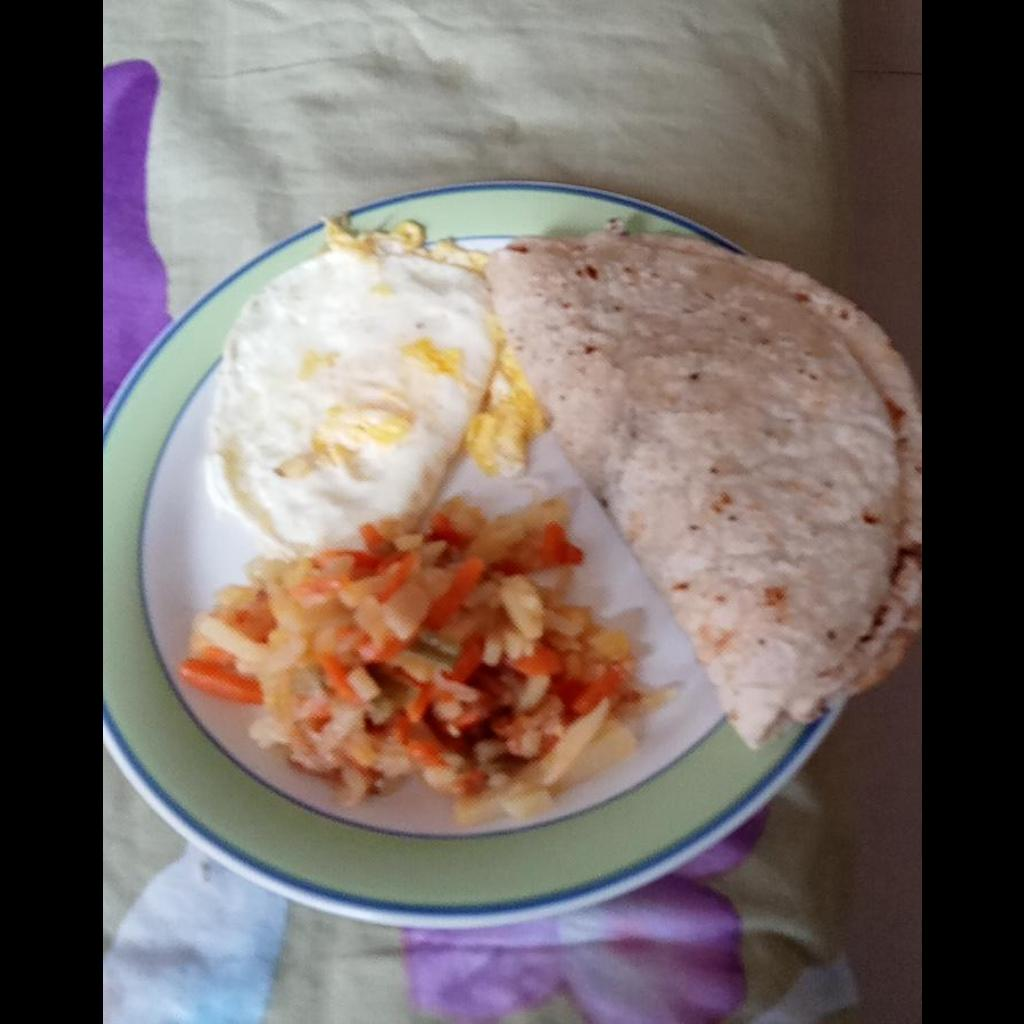egg-poached: (202, 216, 549, 545)
ruti: (483, 228, 920, 750)
vegetable: (174, 497, 680, 826)
